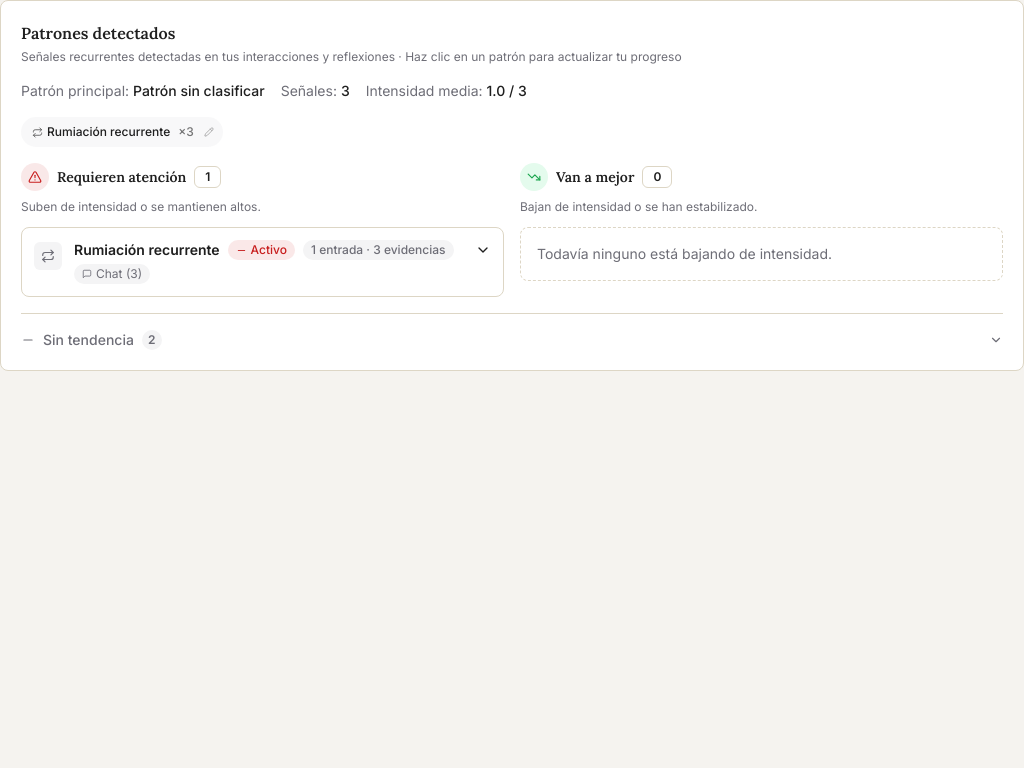
Scenario: DetectedPatternsPanel › groups primary and secondary evidence under one pattern entry
Expected: the text "1 entrada · 3 evidencias" is shown, [303, 240, 454, 260]
Expected: the text "Chat (3)" is shown, [74, 264, 150, 284]
Click the button "Rumiación recurrente": coordinates (262, 262) [34, 240, 491, 284]
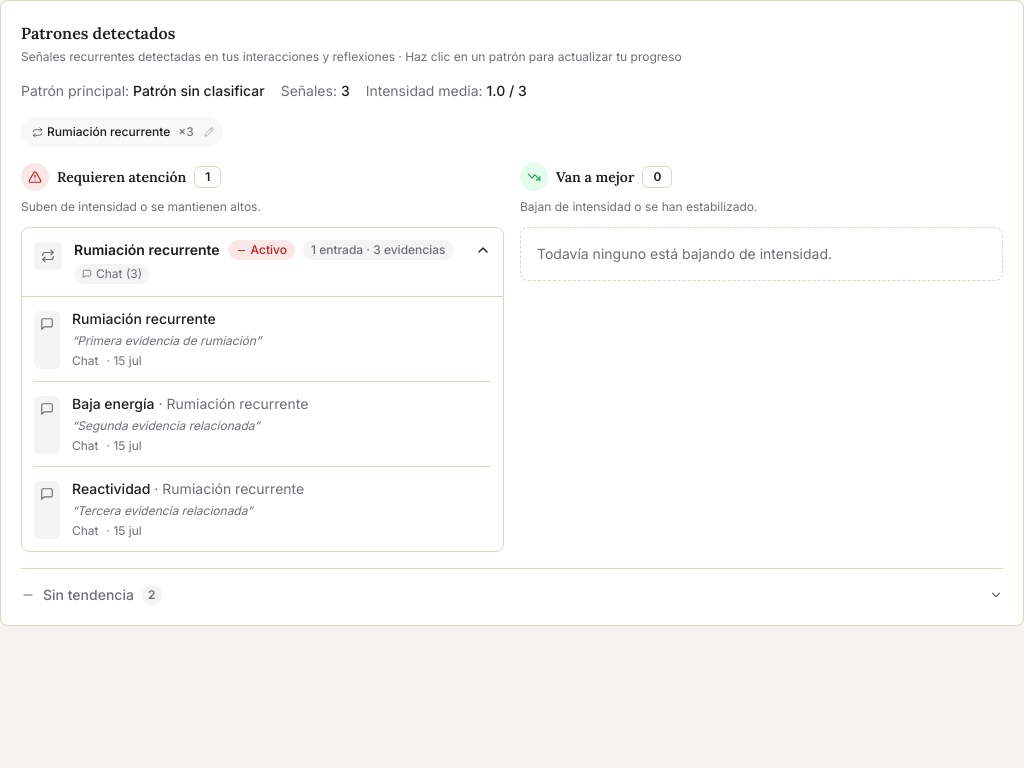
Expected: the text "“Primera evidencia de rumiación”" is shown, [72, 333, 261, 348]
Expected: the text "“Segunda evidencia relacionada”" is shown, [72, 418, 260, 433]
Expected: the text "“Tercera evidencia relacionada”" is shown, [72, 503, 252, 518]
